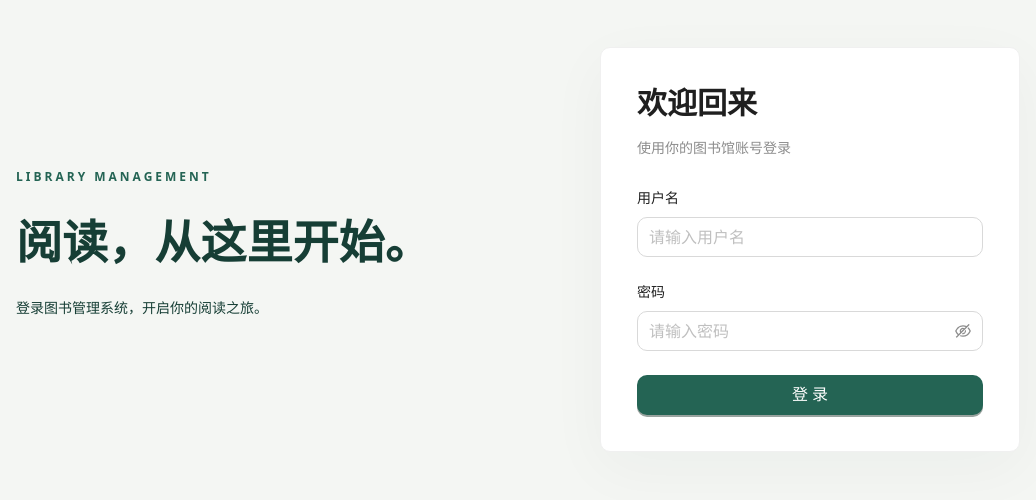
Test case: 登录与身份恢复 › 错误凭据保留登录表单并显示错误
Type "reader" into the field labelled "用户名" at (810, 236), box [637,216,983,256]
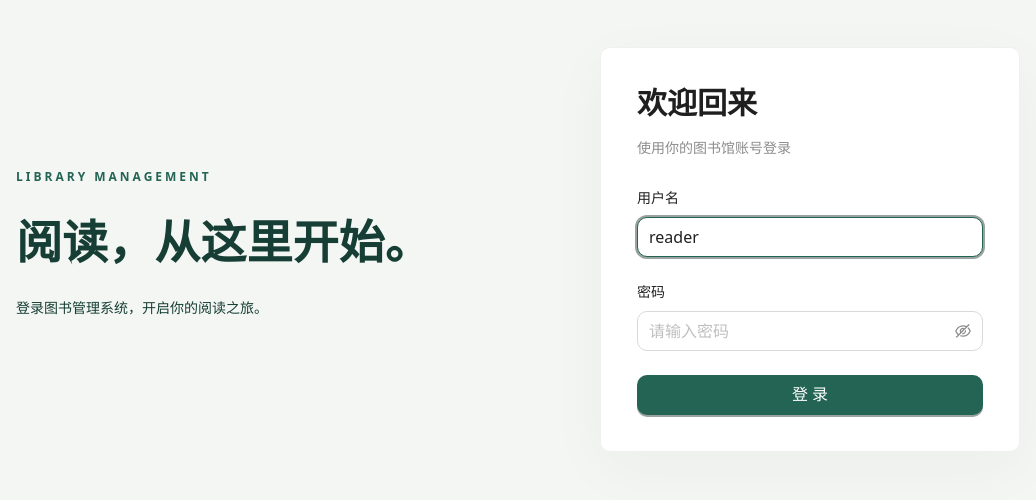
Type "password123" into the password field labelled "密码" at (800, 330), box [649,318,951,342]
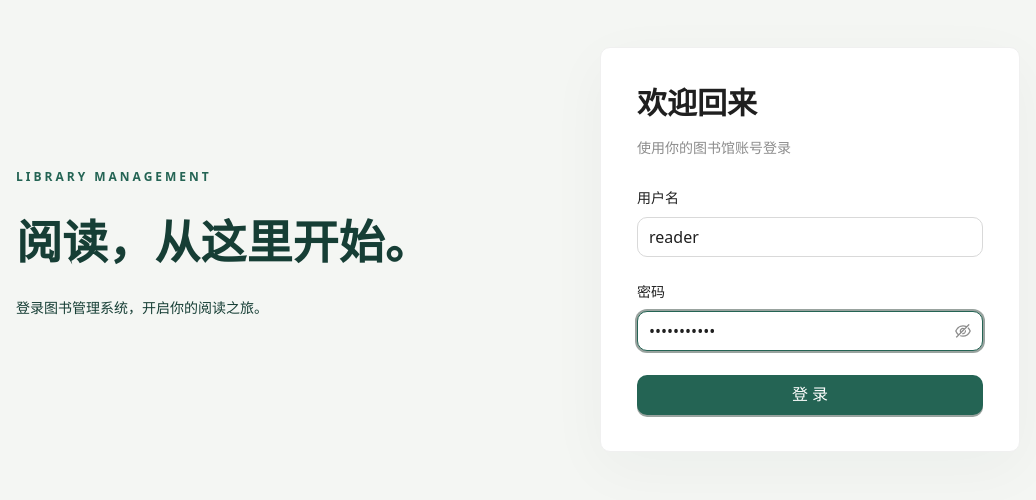
Click the button "登 录" at (810, 394), box [637,374,983,414]
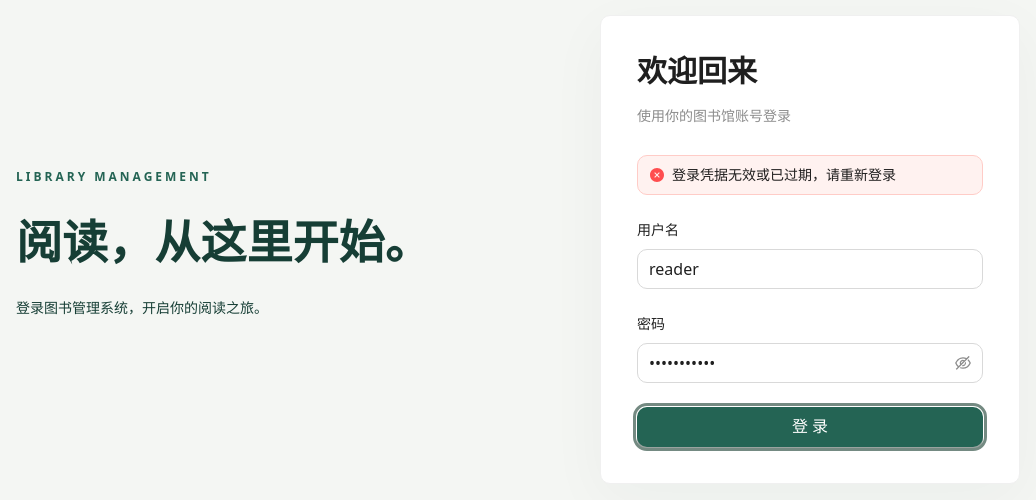
Check: the text "登录凭据无效或已过期，请重新登录" is shown, box [672,164,896,184]
